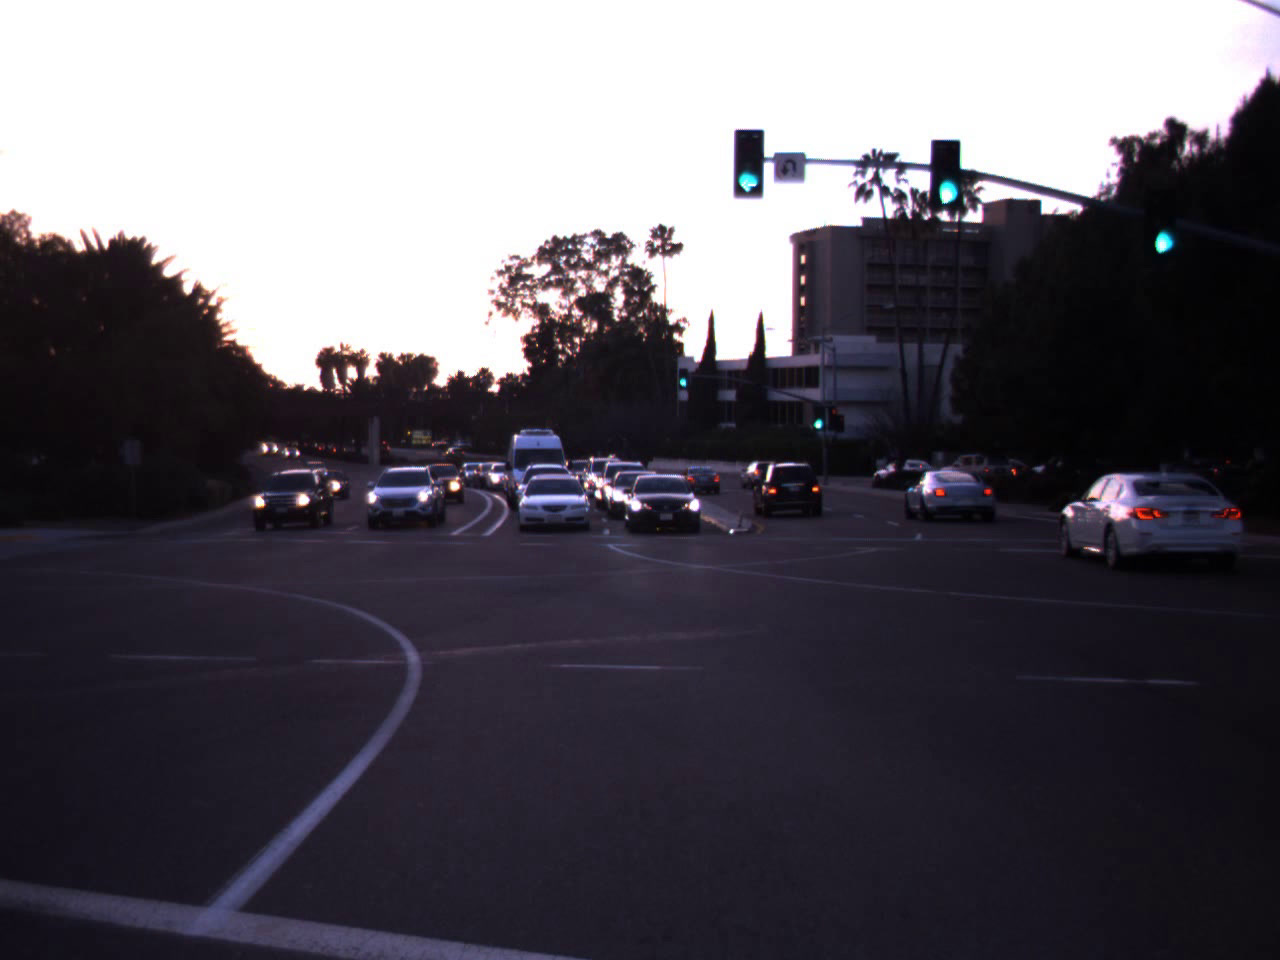go: (716, 105, 779, 200), (920, 122, 971, 212), (1137, 172, 1182, 262), (807, 396, 828, 431), (675, 359, 690, 389)
